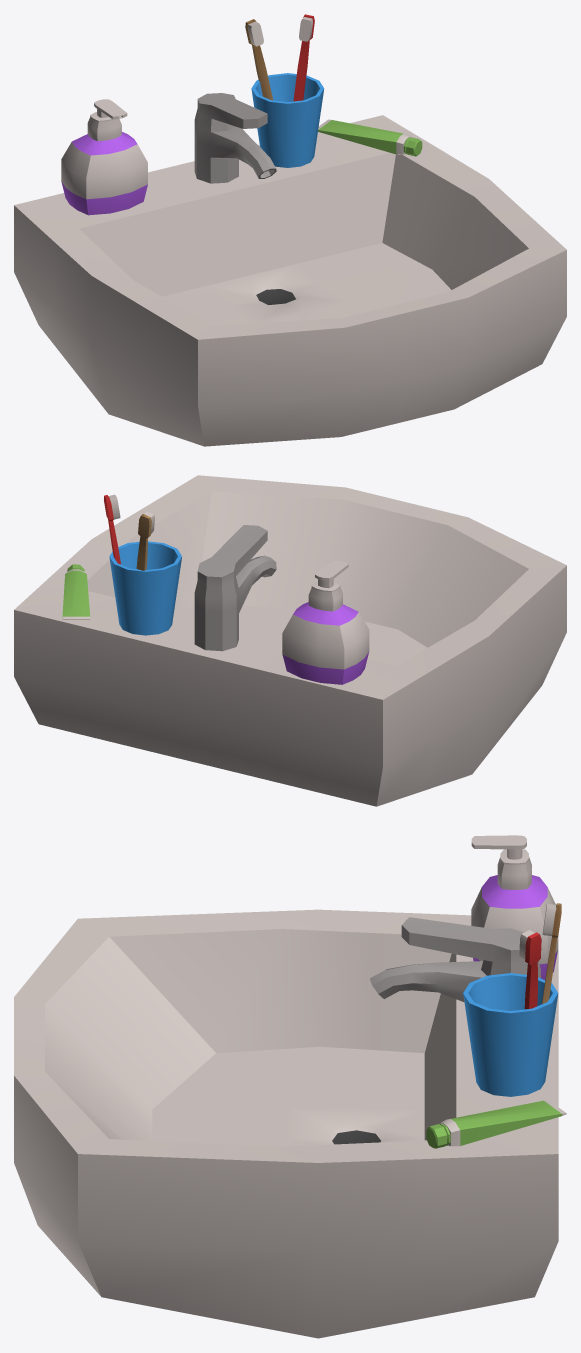
The model's file is Bath Sink.fbx.
The picture shows the model from 3 angles, top to bottom: view 1: azimuth 30°, elevation 25°; view 2: azimuth 150°, elevation 25°; view 3: azimuth 270°, elevation 25°; orthographic projection. The views are drawn at different scales.
Parts seen in each view (by area): view 1: Sink.001; view 2: Sink.001; view 3: Sink.001.
Boxes of the visible parts, x1=… form: Sink.001: x1=14, y1=14, x2=566, y2=446; Sink.001: x1=14, y1=475, x2=566, y2=806; Sink.001: x1=14, y1=835, x2=566, y2=1338.
Size of the model in its own units: 87.93 by 57.03 by 81.1.
